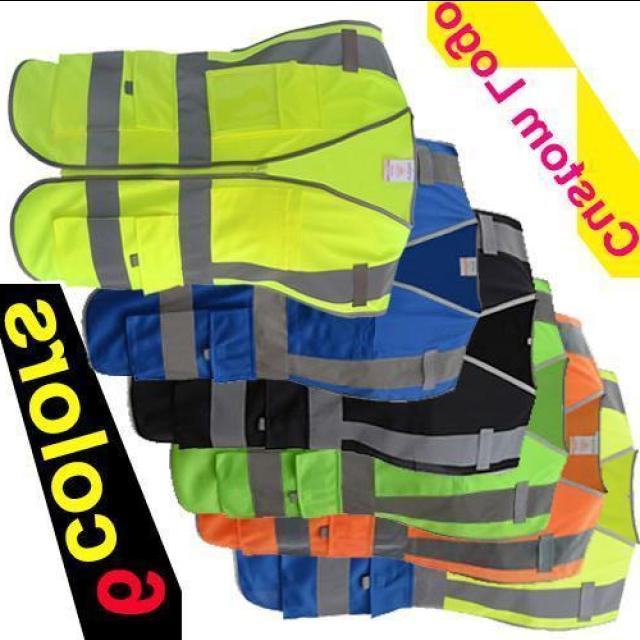jacket: (21, 26, 423, 316)
